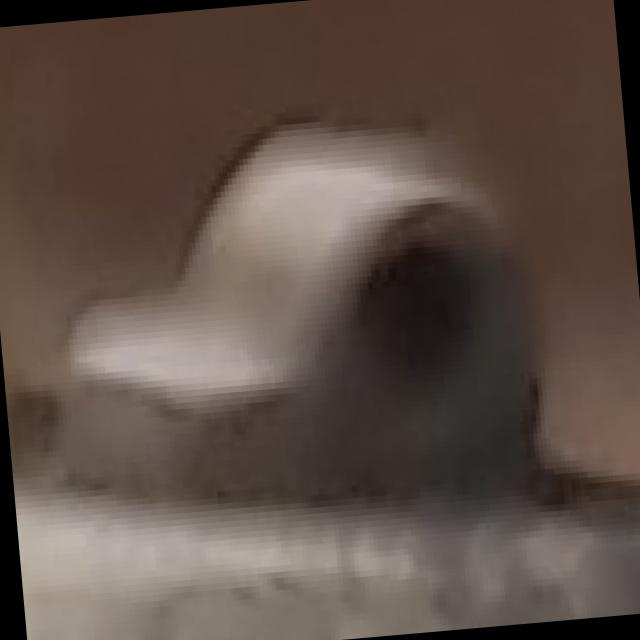track_bolt_missing: (158, 92, 560, 474)
